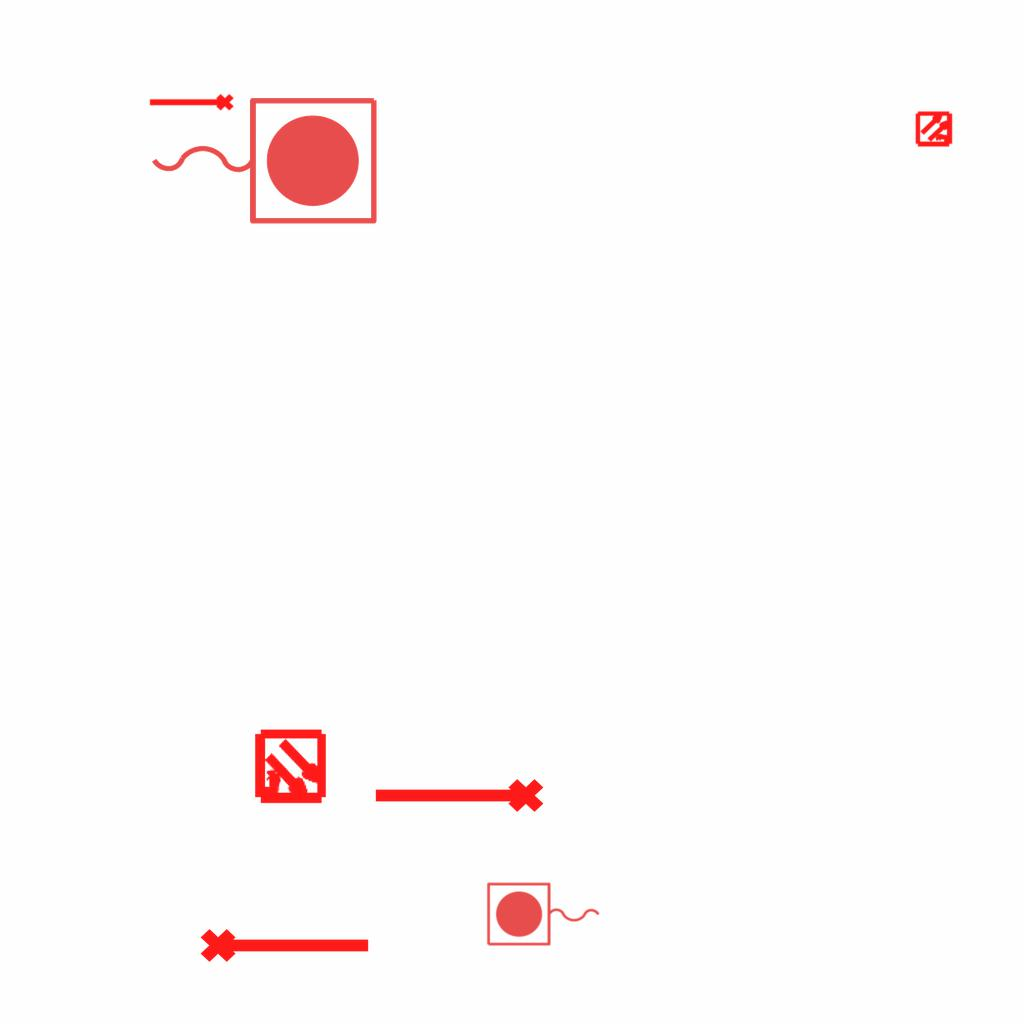ASR_Ansaugoeffnung: (198, 920, 374, 966), (370, 775, 546, 821), (147, 92, 235, 115)
OT_Multisensormelder_(Kombination_RMO_WMD): (234, 712, 347, 825), (907, 101, 963, 157)
Zugtaster: (141, 87, 385, 231), (483, 879, 605, 951)
